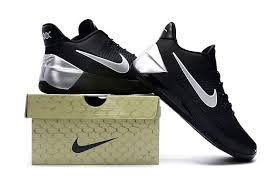nike: (172, 51, 218, 107), (76, 48, 130, 75)
